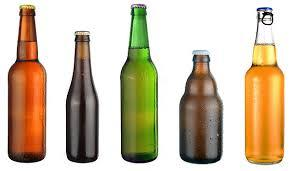Glass bottle: (3, 0, 295, 171)
